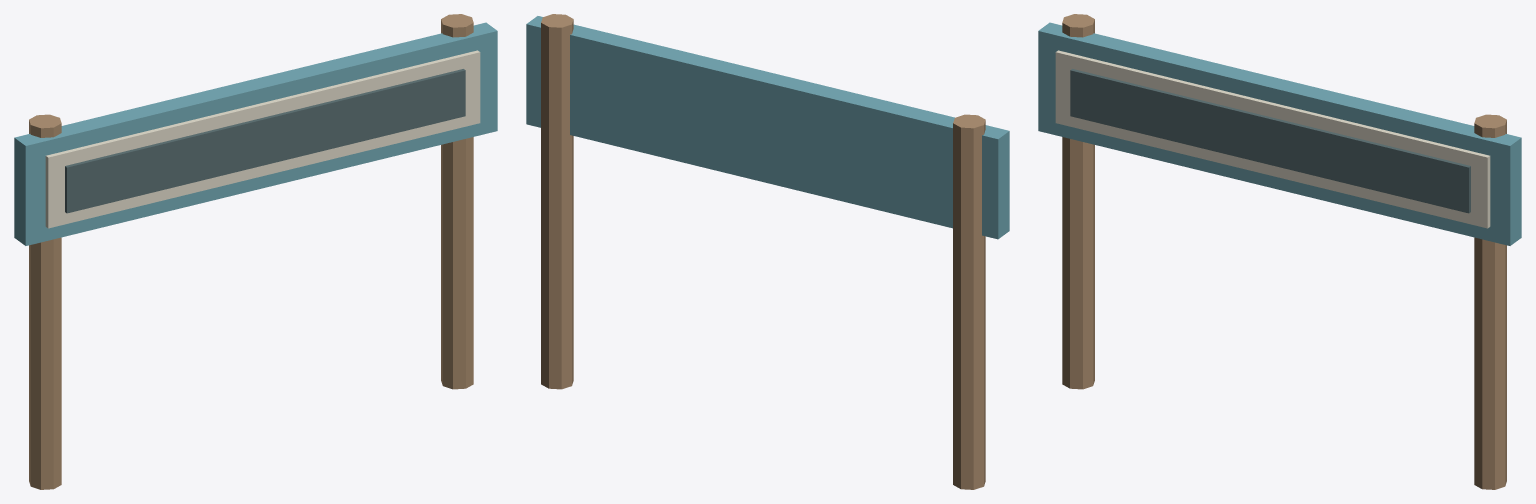
The model's file is town_sign.glb.
3 views of the same model, side by side, from view 1: azimuth 30°, elevation 25°; view 2: azimuth 150°, elevation 25°; view 3: azimuth 330°, elevation 25° (orthographic).
Visible parts, largest first — view 1: blank town notice board, notice inset, notice border, sign timber post, sign timber post.001; view 2: blank town notice board, sign timber post.001, sign timber post; view 3: blank town notice board, notice inset, notice border, sign timber post.001, sign timber post.
Boxes of the visible parts, box(x1,y1,x2,y2) form: blank town notice board: box(14, 22, 497, 245); notice inset: box(65, 69, 465, 213); notice border: box(45, 50, 480, 228); sign timber post: box(29, 114, 61, 489); sign timber post.001: box(441, 14, 473, 389); blank town notice board: box(526, 16, 1009, 239); sign timber post.001: box(541, 14, 573, 389); sign timber post: box(953, 114, 985, 489); blank town notice board: box(1038, 22, 1521, 245); notice inset: box(1070, 69, 1470, 213); notice border: box(1055, 50, 1490, 228); sign timber post.001: box(1474, 114, 1506, 489); sign timber post: box(1062, 14, 1094, 389).
Size of the model in its own units: 3.55 by 2.6 by 0.305.
